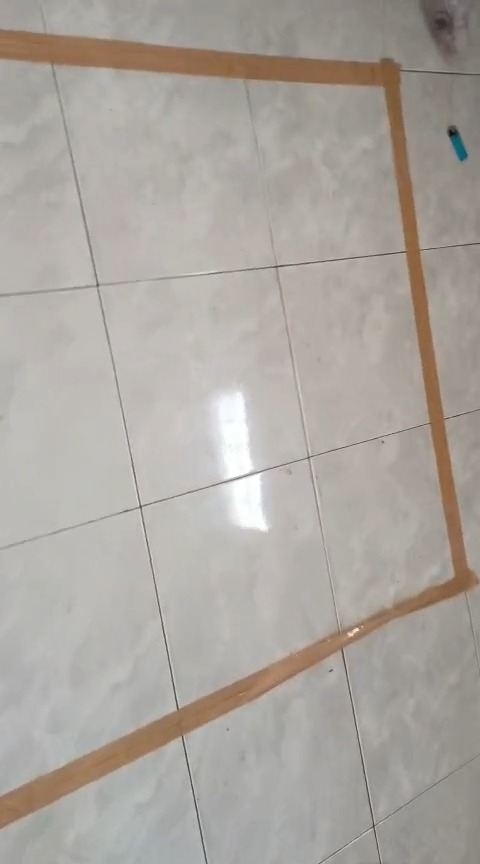floor marking: (0, 30, 477, 828)
